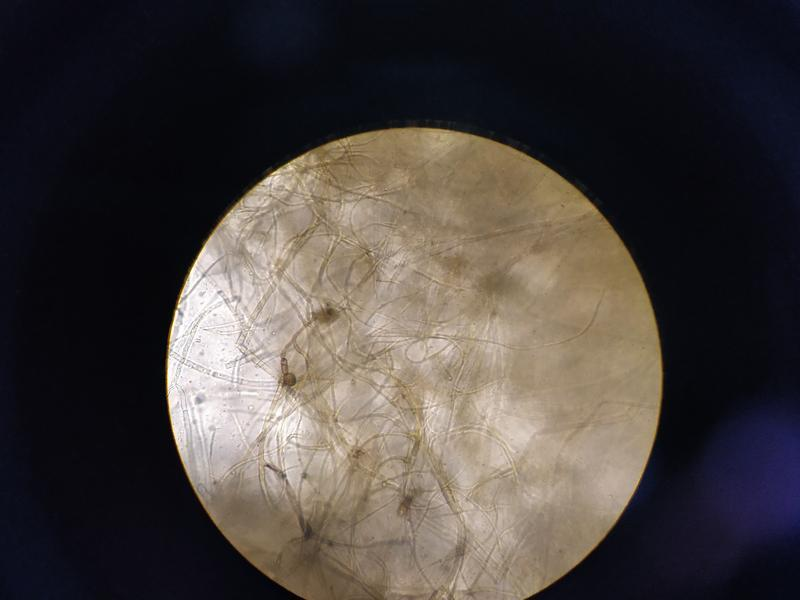fungus: (250, 196, 582, 563)
